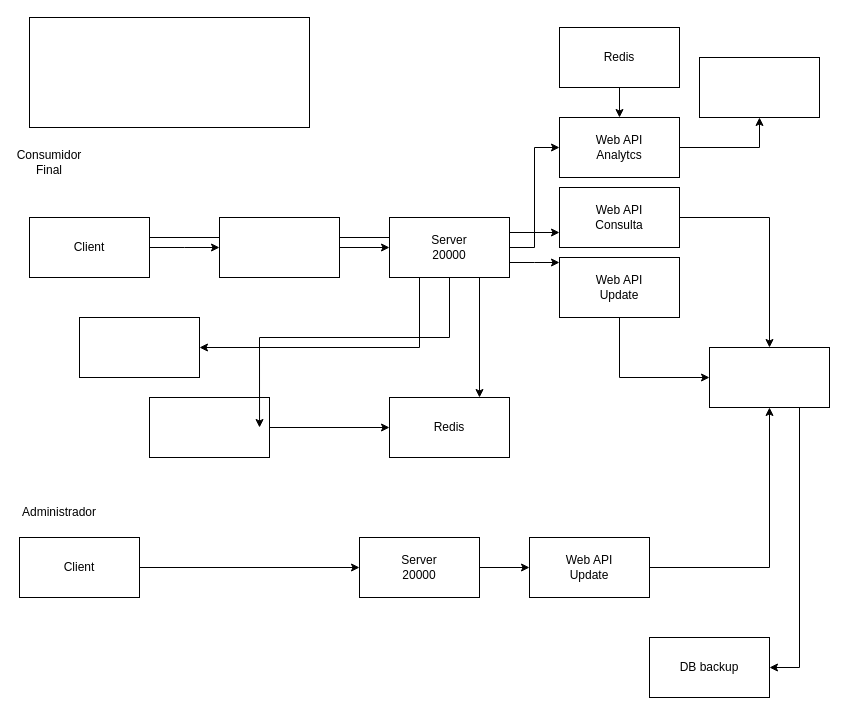
Image size: 847x715. Some labels were removed from this diagram. The shapes that lost their labels are listed below. From the top down, each one's centre as x and y in pixels, then its label:
(169,72): Requisitos : • Sistema existente • 20000/s → 40000/s • 1 dia
(759,87): Kafka
(279,247): Load Balance
(139,347): Plataforma de pagamento 1
(769,377): DB
(209,427): Plataforma de pagamento 2
